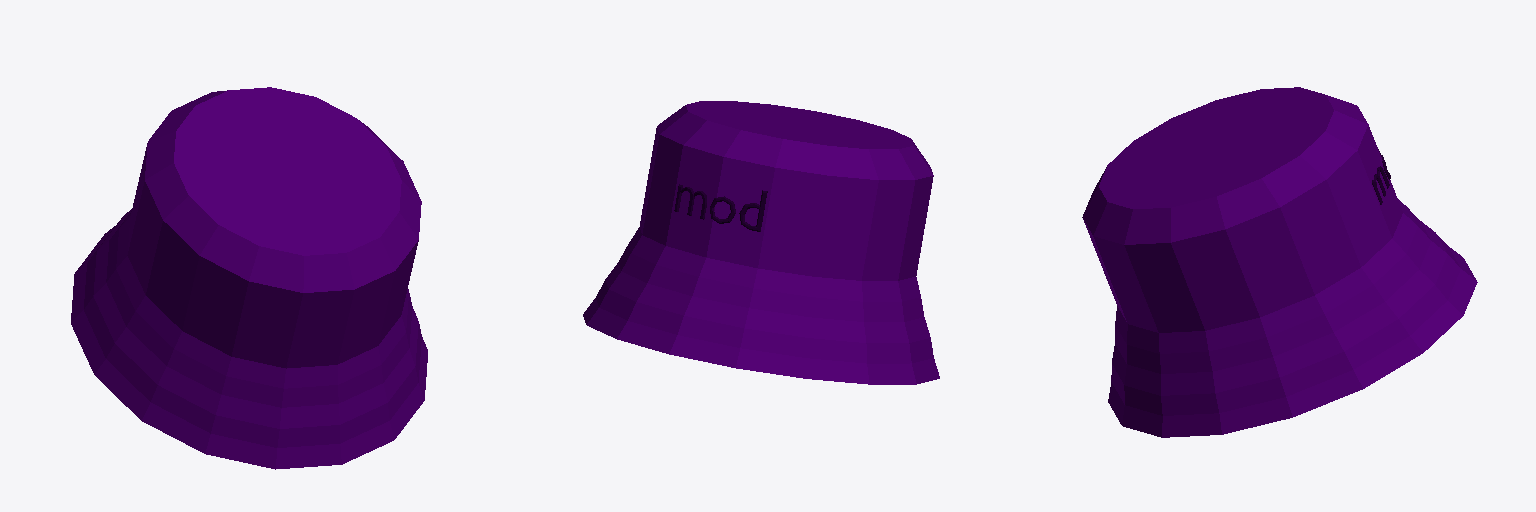
The model's file is sunhat_basic_moderator.sgm.obj.
3 renders of one model, left to right at view 1: azimuth 30°, elevation 25°; view 2: azimuth 150°, elevation 25°; view 3: azimuth 270°, elevation 25°, orthographic.
Visible parts, largest first — view 1: 0; view 2: 0, 1; view 3: 0.
Part boxes in pixels (x1,y1,x2,y2): 0: (71, 87, 427, 469); 0: (583, 101, 939, 384); 1: (674, 184, 767, 231); 0: (1082, 87, 1477, 437).
Size of the model in its own units: 0.4889 by 0.4386 by 0.539.